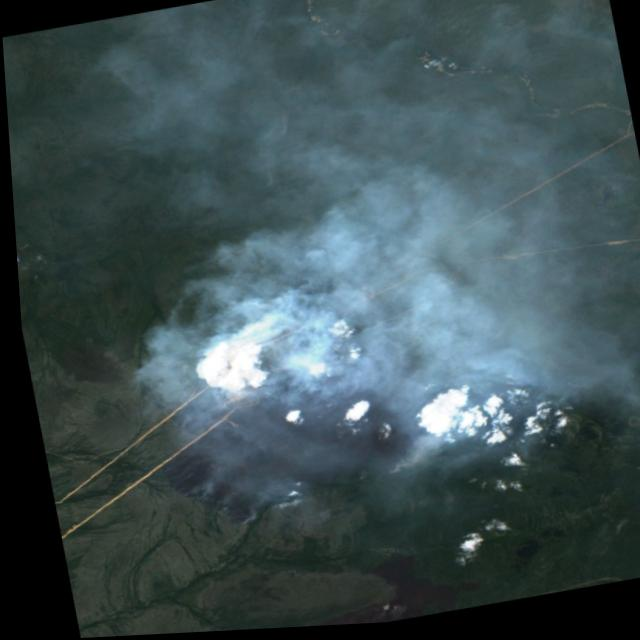fire: (136, 338, 481, 546)
